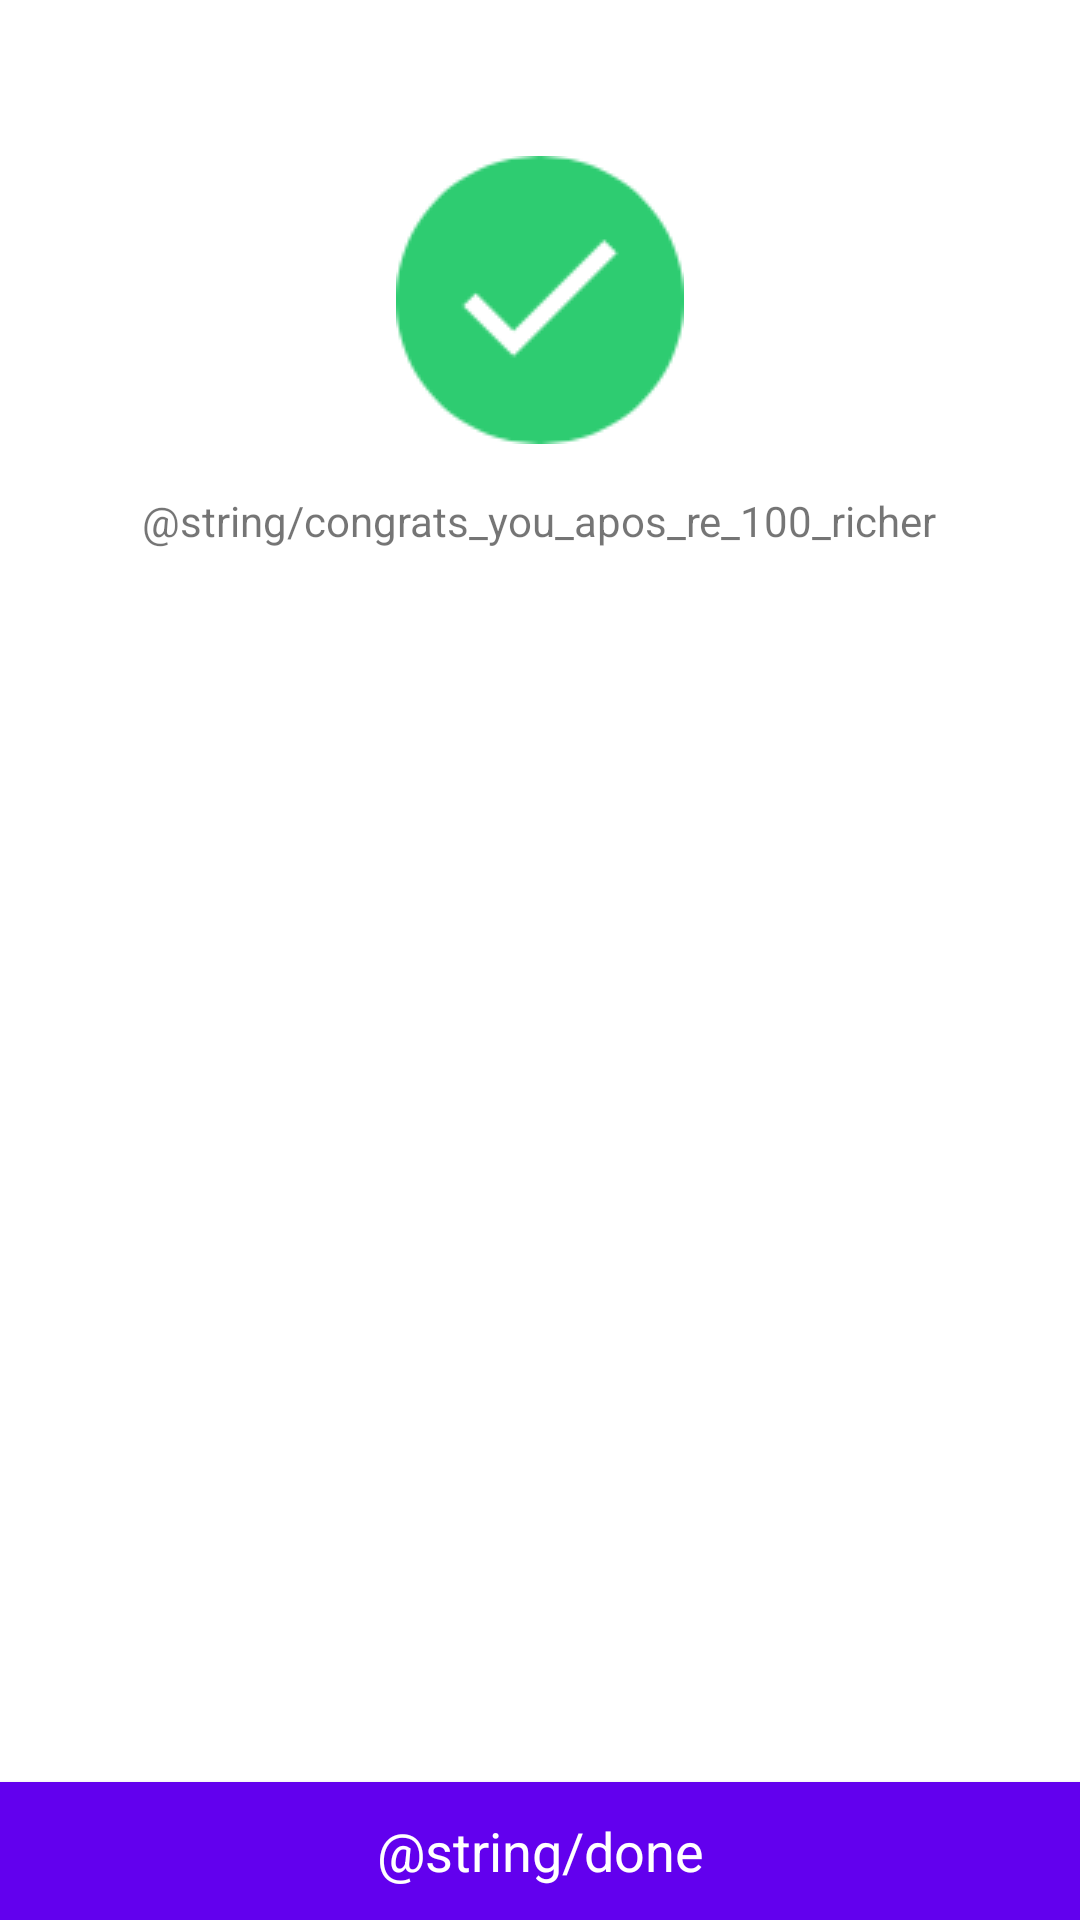

Icon bounding boxes for this 1080w x 1920h phone screenshot, format bbox=(x1, y1, x2, y2):
confirmation: bbox=(396, 156, 684, 444)
